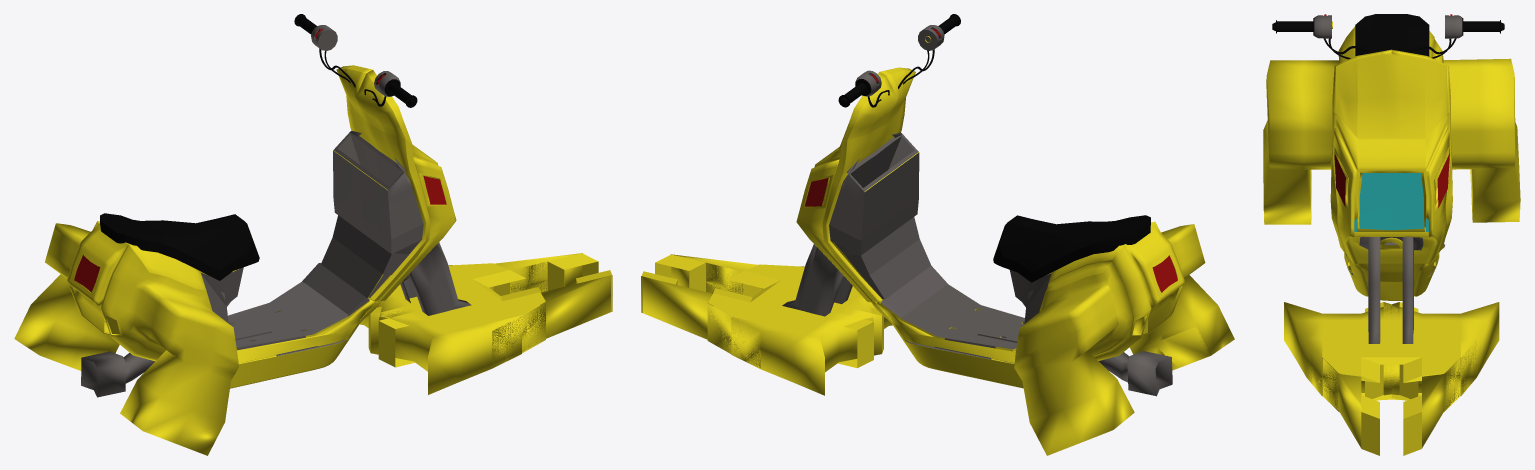
The model's file is moto.fbx.
The picture shows the model from 3 angles, left to right: view 1: azimuth 30°, elevation 25°; view 2: azimuth 150°, elevation 25°; view 3: azimuth 270°, elevation 25°; orthographic projection.
Visible parts, largest first — view 1: pasted__pasted__pSphere8, pasted__pasted__polySurface88, Box002, pasted__pasted__pCube2, Box001, pasted__pasted__polySurface87; view 2: pasted__pasted__pSphere8, pasted__pasted__polySurface88, Box001, pasted__pasted__pCube2, Box002, pasted__pasted__polySurface87; view 3: pasted__pasted__pSphere8, Box001, Box002, pasted__pasted__polySurface82, pasted__pasted__pCube2, pasted__pasted__polySurface87, pasted__pasted__polySurface88, pPlane1, pPlane2.
Boxes of the visible parts, x1,y1,x2,y2 form: pasted__pasted__pSphere8: (14,65,471,455); pasted__pasted__polySurface88: (81,130,423,397); Box002: (368,270,612,394); pasted__pasted__pCube2: (100,213,259,280); Box001: (360,253,598,367); pasted__pasted__polySurface87: (294,14,417,107); pasted__pasted__pSphere8: (782,67,1234,455); pasted__pasted__polySurface88: (829,132,1172,396); Box001: (641,271,883,395); pasted__pasted__pCube2: (993,215,1150,282); Box002: (655,254,892,368); pasted__pasted__polySurface87: (838,14,960,107); pasted__pasted__pSphere8: (1263,26,1520,343); Box001: (1365,302,1499,455); Box002: (1284,302,1418,455); pasted__pasted__polySurface82: (1354,173,1428,231); pasted__pasted__pCube2: (1355,14,1429,56); pasted__pasted__polySurface87: (1272,14,1504,59); pasted__pasted__polySurface88: (1347,237,1444,300); pPlane1: (1437,153,1449,207); pPlane2: (1334,154,1345,206).
Size of the model in its own units: 301 by 172 by 126.
